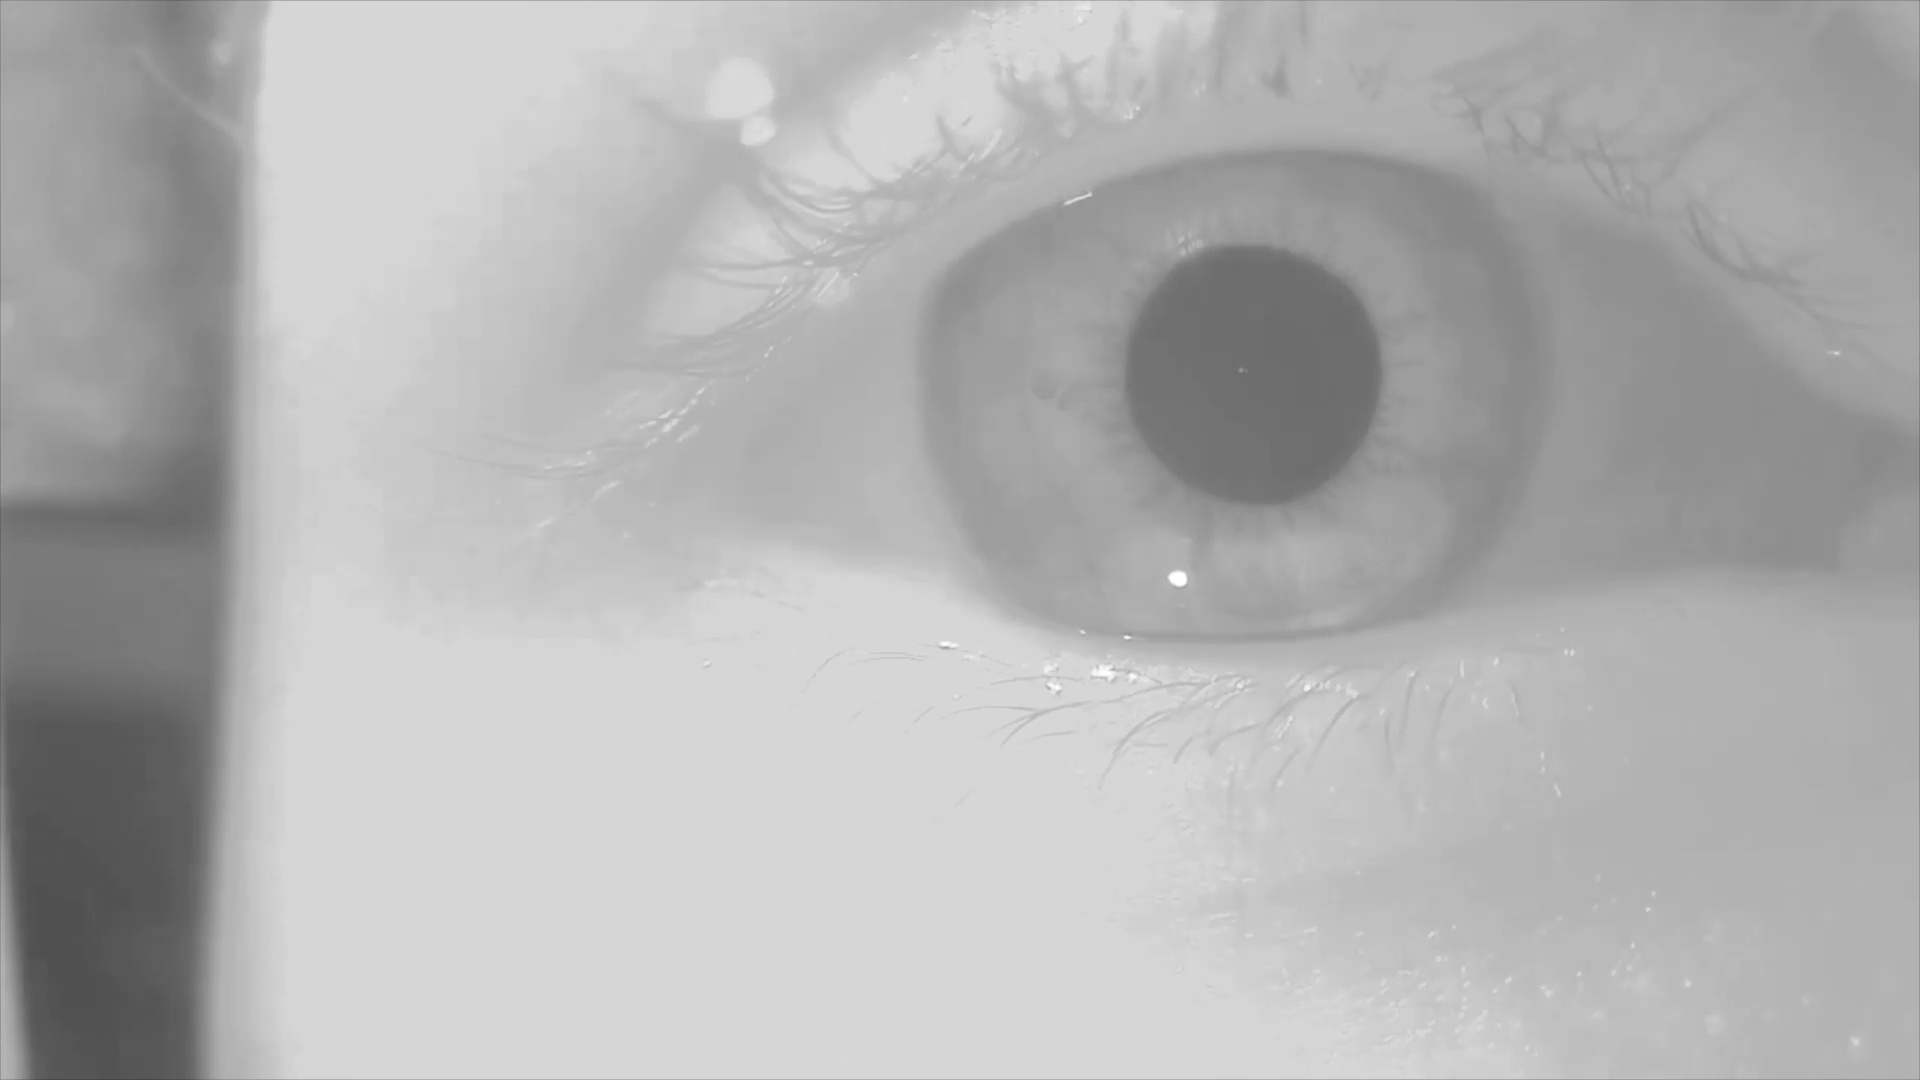pupil: (1124, 244, 1383, 501)
